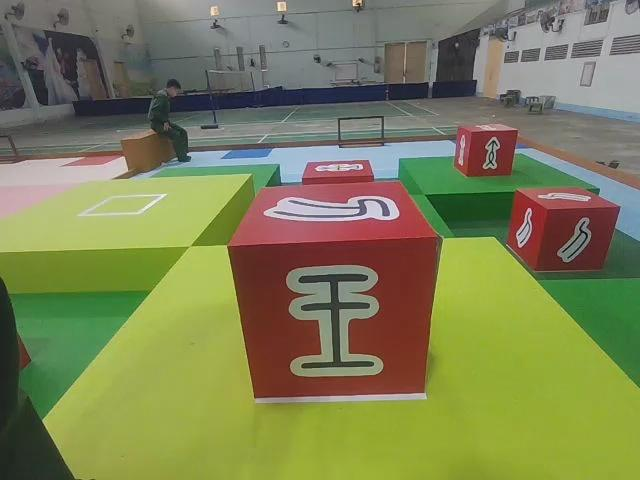R2 Fake: (227, 176, 439, 404)
R2 Real: (503, 182, 622, 275), (453, 120, 521, 184)
